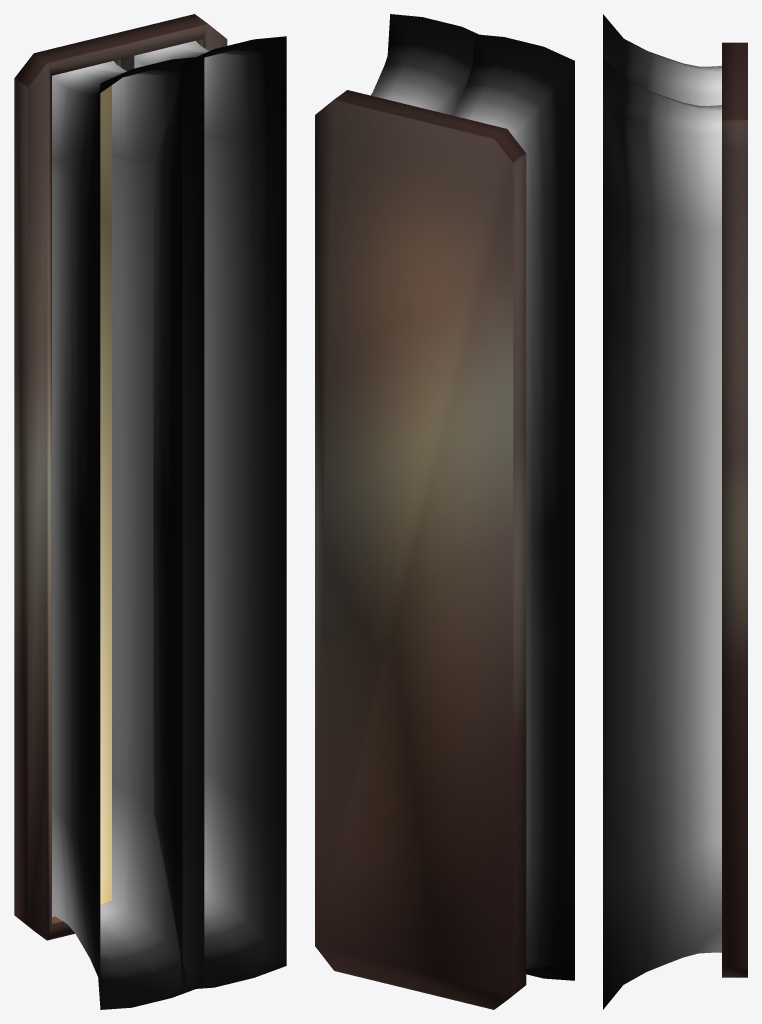
Rendered from LightPanels.fbx.
3 renders of one model, left to right at view 1: azimuth 30°, elevation 25°; view 2: azimuth 150°, elevation 25°; view 3: azimuth 270°, elevation 25°, orthographic. The views are drawn at different scales.
Parts seen in each view (by area): view 1: LightEmission, LightEmission.001, Frame_WhiteLight; view 2: Frame_WhiteLight, LightEmission, LightEmission.001; view 3: LightEmission.001, Frame_WhiteLight, LightEmission.
Boxes of the visible parts, x1,y1,x2,y2 form: LightEmission: (52,56,204,1009); LightEmission.001: (134,36,286,989); Frame_WhiteLight: (14,14,227,940); Frame_WhiteLight: (315,90,526,1009); LightEmission: (452,34,574,980); LightEmission.001: (371,14,478,115); LightEmission.001: (603,57,721,1009); Frame_WhiteLight: (722,42,747,977); LightEmission: (603,14,721,105).
Bounding box in the file's own units: 102 × 458 × 65.53.
